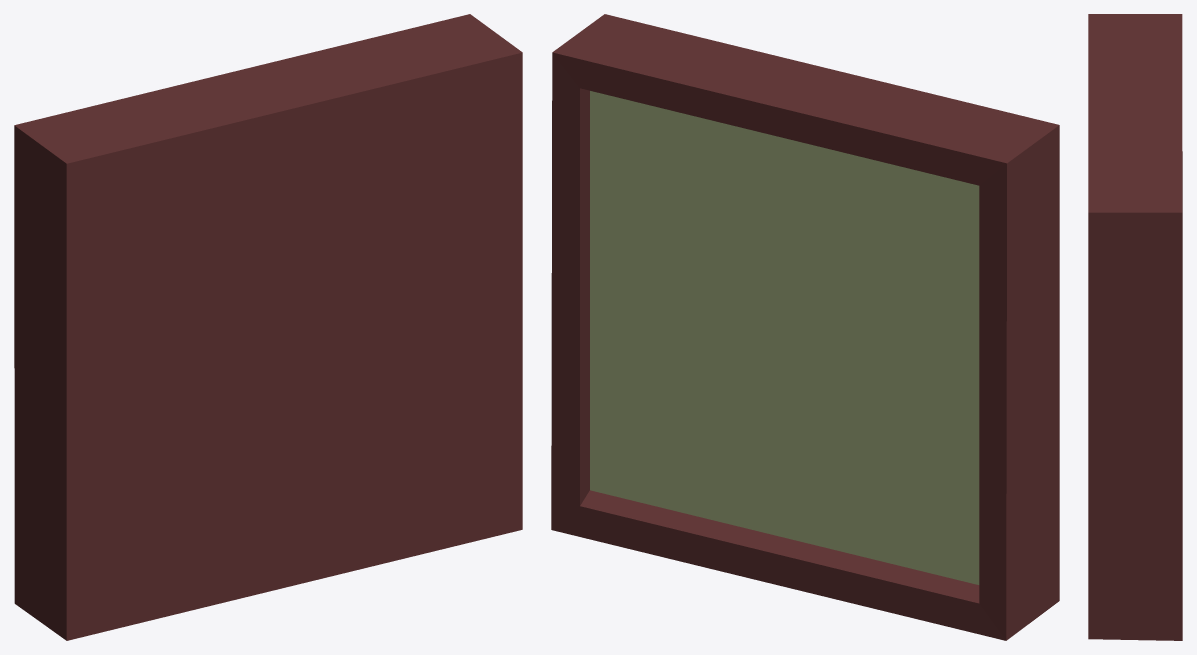
The model's file is Wall_100.fbx.
3 renders of one model, left to right at view 1: azimuth 30°, elevation 25°; view 2: azimuth 150°, elevation 25°; view 3: azimuth 270°, elevation 25°, orthographic. The views are drawn at different scales.
Parts seen in each view (by area): view 1: Wall_100_01_K; view 2: Wall_100_01_K; view 3: Wall_100_01_K.
Boxes of the visible parts, <box> form: Wall_100_01_K: <box>14,14,522,640</box>; Wall_100_01_K: <box>551,14,1059,640</box>; Wall_100_01_K: <box>1088,14,1182,640</box>.
Size of the model in its own units: 1 by 1 by 0.2006.
